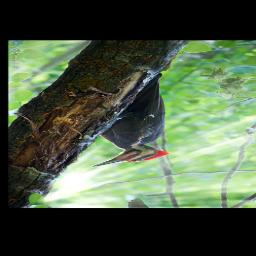Woodpecker: (90, 72, 172, 167)
